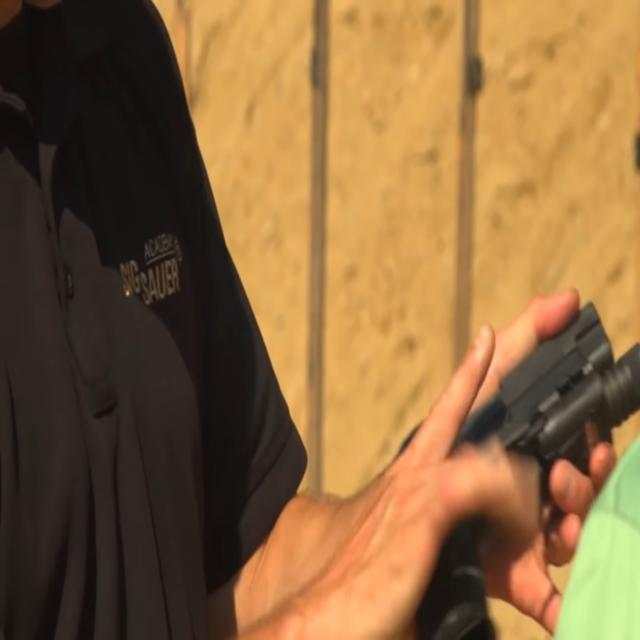Gun_Holder: (365, 300, 640, 614)
